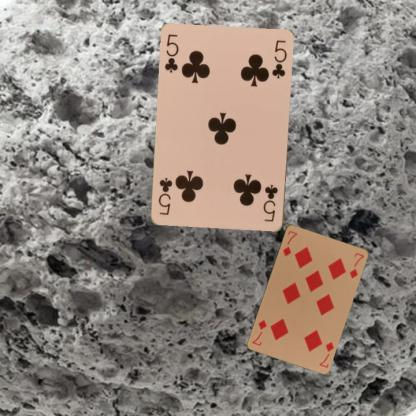5c: (261, 182, 280, 223), (162, 31, 180, 74)
7d: (280, 228, 298, 258), (317, 338, 335, 368)
